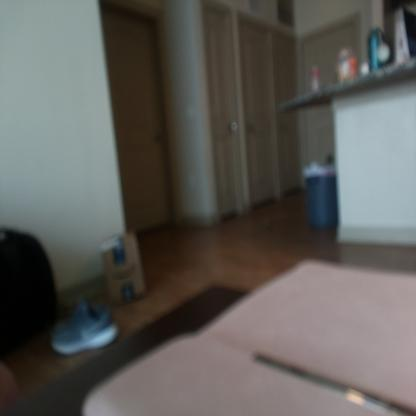package: (99, 227, 149, 312)
